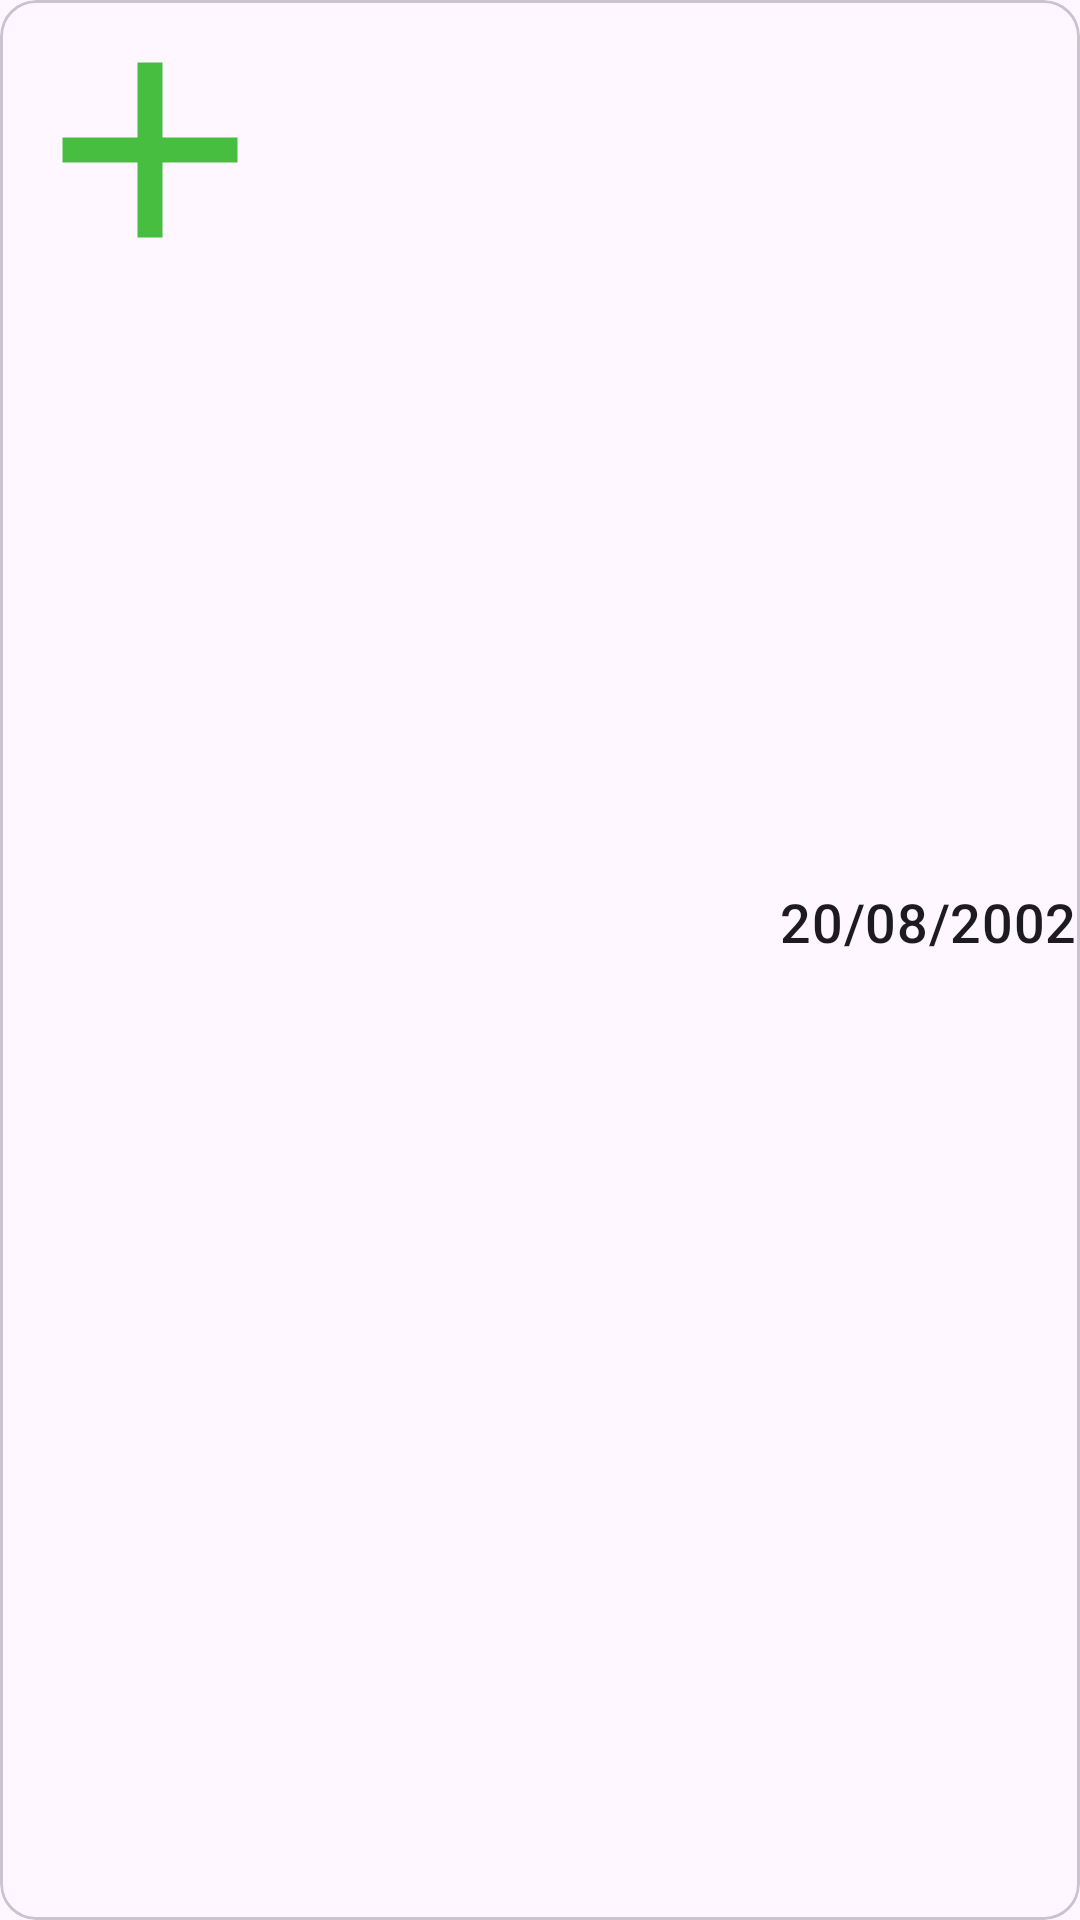

Screen size 1080×1920. Icon name, then its box in pixels as (x1, y1, x2, y2):
add: (62, 62, 238, 238)
